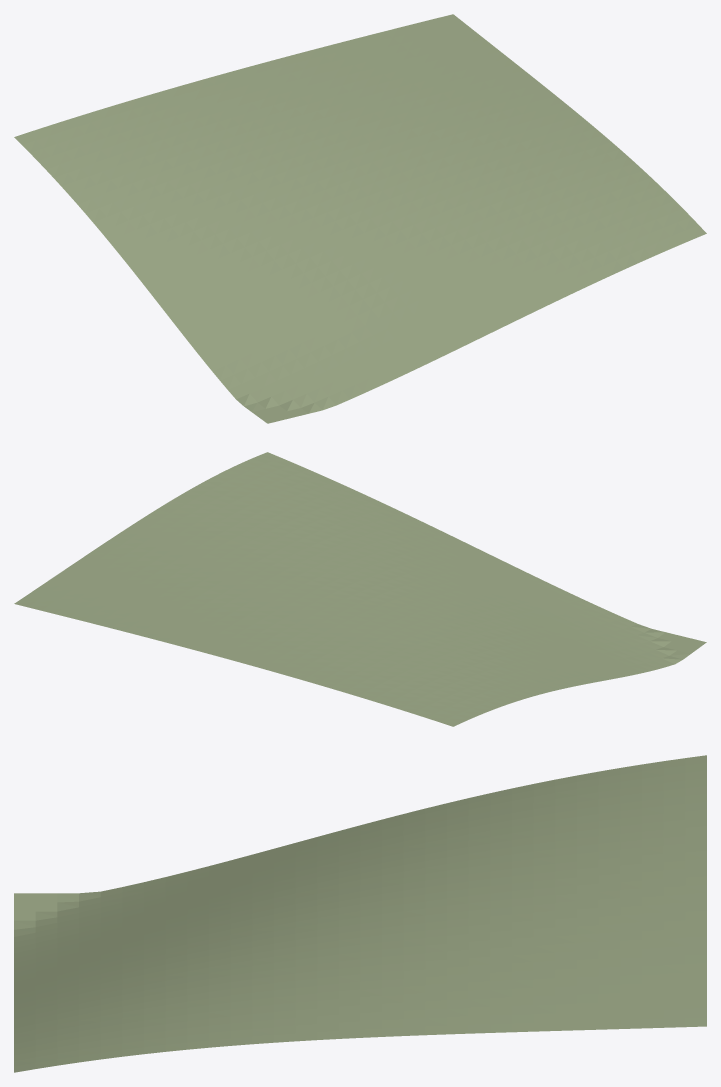
The model's file is expanse-5-5.glb.
The picture shows the model from 3 angles, top to bottom: view 1: azimuth 30°, elevation 25°; view 2: azimuth 150°, elevation 25°; view 3: azimuth 270°, elevation 25°; orthographic projection. The views are drawn at different scales.
Parts seen in each view (by area): view 1: expanse-5-5; view 2: expanse-5-5; view 3: expanse-5-5.
Part boxes in pixels (bbox=[...]): expanse-5-5: bbox=[14, 14, 706, 423]; expanse-5-5: bbox=[14, 452, 706, 726]; expanse-5-5: bbox=[14, 755, 706, 1072].
Size of the model in its own units: 256 by 65.05 by 256.
